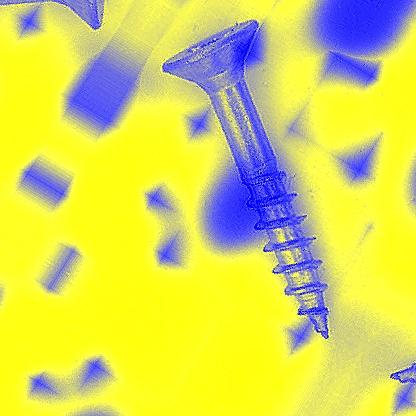metal: (158, 17, 333, 340)
